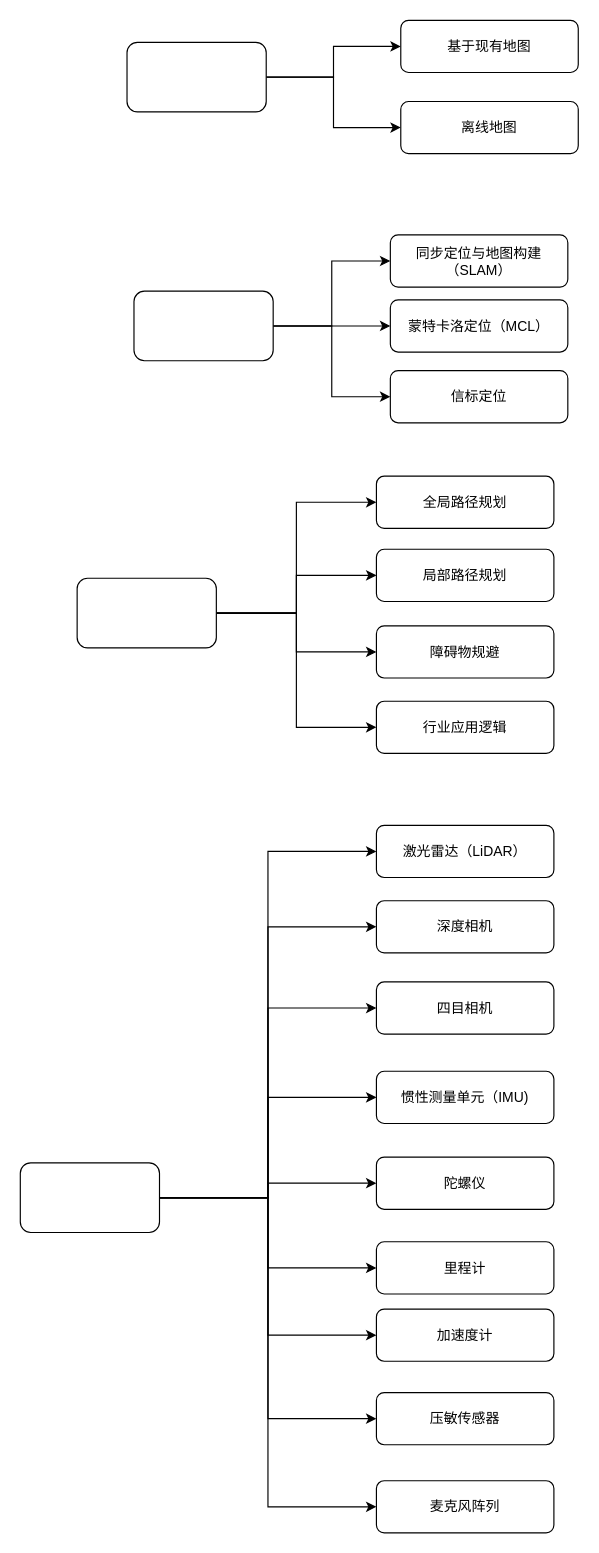
Image size: 599x1553. Some labels were removed from this diagram. The box of each missing label's shape, as (x1, y1, x2, y2) in pixels:
传感器: (19, 1162, 160, 1232)
地图构建: (126, 41, 266, 112)
环境定位: (133, 290, 273, 361)
运动与导航: (76, 577, 216, 648)
